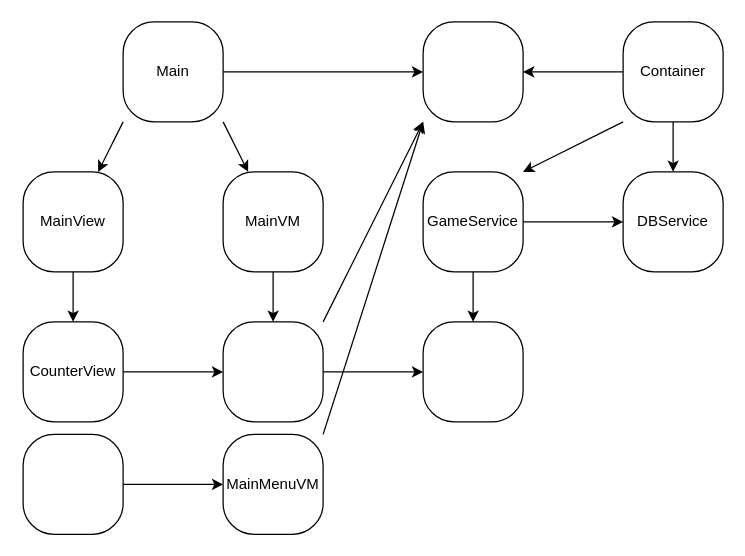
This 745x556 diagram has some shape labels left out. The shapes that lost their labels are listed below. From the top down, each one's centre as x and y in pixels, then its label:
At [472,71]: "Router".
At [272,371]: "CounterVM".
At [472,371]: "Counter".
At [72,483]: "MainMenuView".
